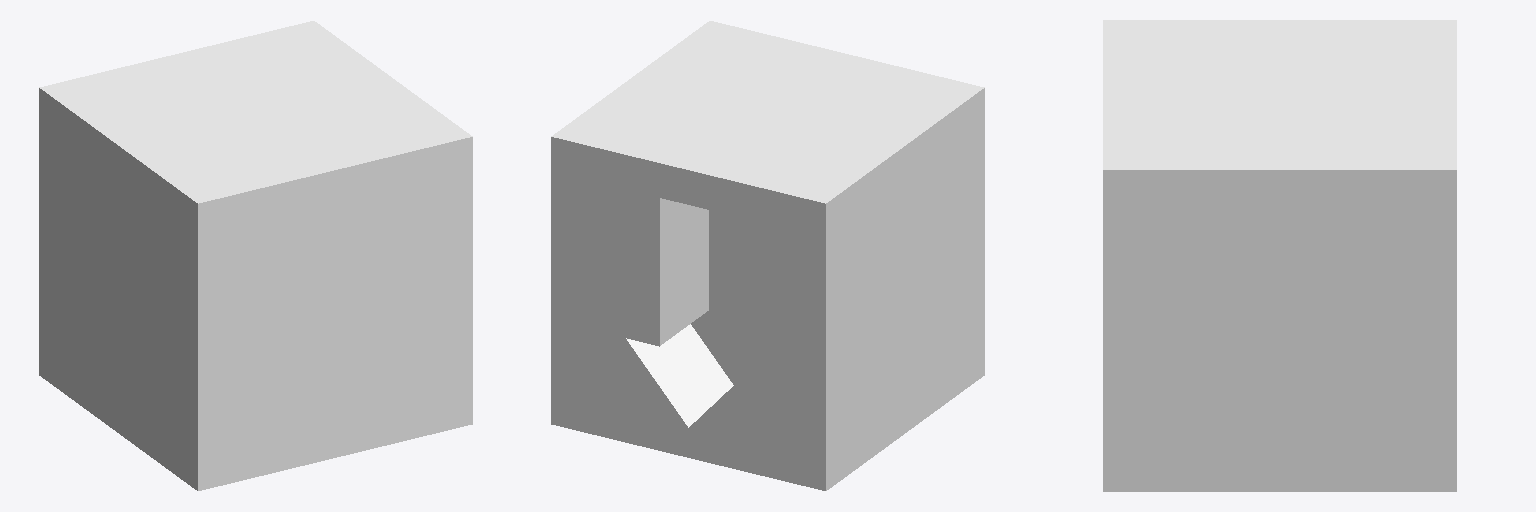
URDF robot description (Arrow_cube_bottle_preprocessed):
<?xml version="1.0" ?>
<robot name="Arrow_cube_bottle_preprocessed">
  <link name="baseLink">
    <contact>
    	<friction_anchor/>
    	   <lateral_friction value="1.0"/>
    </contact>
    <inertial>
      <origin rpy="0 0 0" xyz="0 0 0"/>
       <!-- mass controls penetration -->
       <mass value=".5"/>
       <inertia ixx="1e-4" ixy="0" ixz="0" iyy="1e-4" iyz="0" izz="1e-4"/>
    </inertial>
    <visual>
      <origin rpy="0 0 0" xyz="0 0 0"/>
      <geometry>
        <mesh filename="Arrow_cube_bottle_preprocessed.obj"/>
      </geometry>
       <material name="white">
        <color rgba="1 1 1 1"/>
      </material>
    </visual>
    <collision>
      <origin rpy="0 0 0" xyz="0 0 0"/>
      <geometry>
        <mesh filename="Arrow_cube_bottle_preprocessed.obj"/>
      </geometry>
    </collision>
  </link>
</robot>

--- What the picture shows (computed from the rendered views, not written in the file) ---
Views: 3 orthographic renders of the robot side by side, from view 1: azimuth 30°, elevation 25°; view 2: azimuth 150°, elevation 25°; view 3: azimuth 270°, elevation 25°.
Model Arrow_cube_bottle_preprocessed with 1 links and 0 joints (none), rooted at baseLink, posed every joint at zero.
Visible links, largest first — view 1: baseLink; view 2: baseLink; view 3: baseLink.
Boxes of the visible links, bbox=[...] form: baseLink: bbox=[39, 21, 472, 490]; baseLink: bbox=[551, 21, 984, 490]; baseLink: bbox=[1103, 20, 1456, 491].
Size in the robot's own frame: 0.08 by 0.08 by 0.08 metres.
Meshes: 1 distinct files referenced, 1 mesh visuals loaded (1 OBJ).